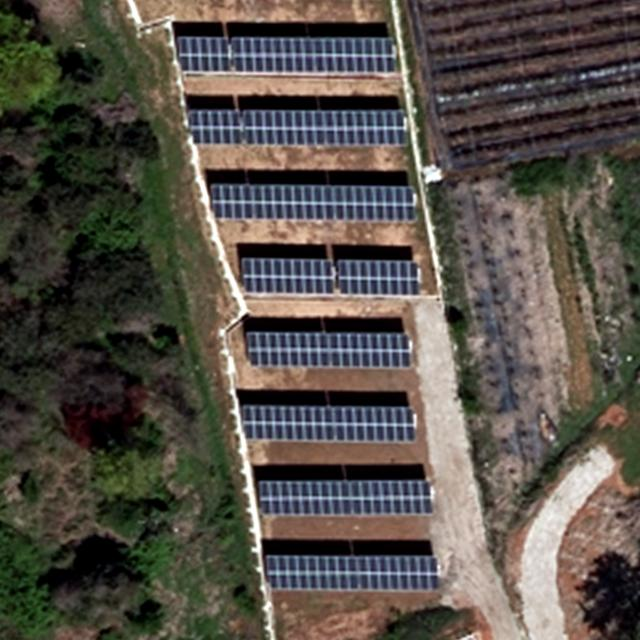panel: (210, 179, 415, 222), (255, 475, 434, 519), (250, 327, 416, 373), (235, 397, 416, 438), (260, 554, 441, 593), (230, 34, 398, 75), (242, 106, 407, 147), (239, 253, 332, 295), (334, 256, 420, 297), (188, 106, 246, 149), (173, 35, 231, 72)
